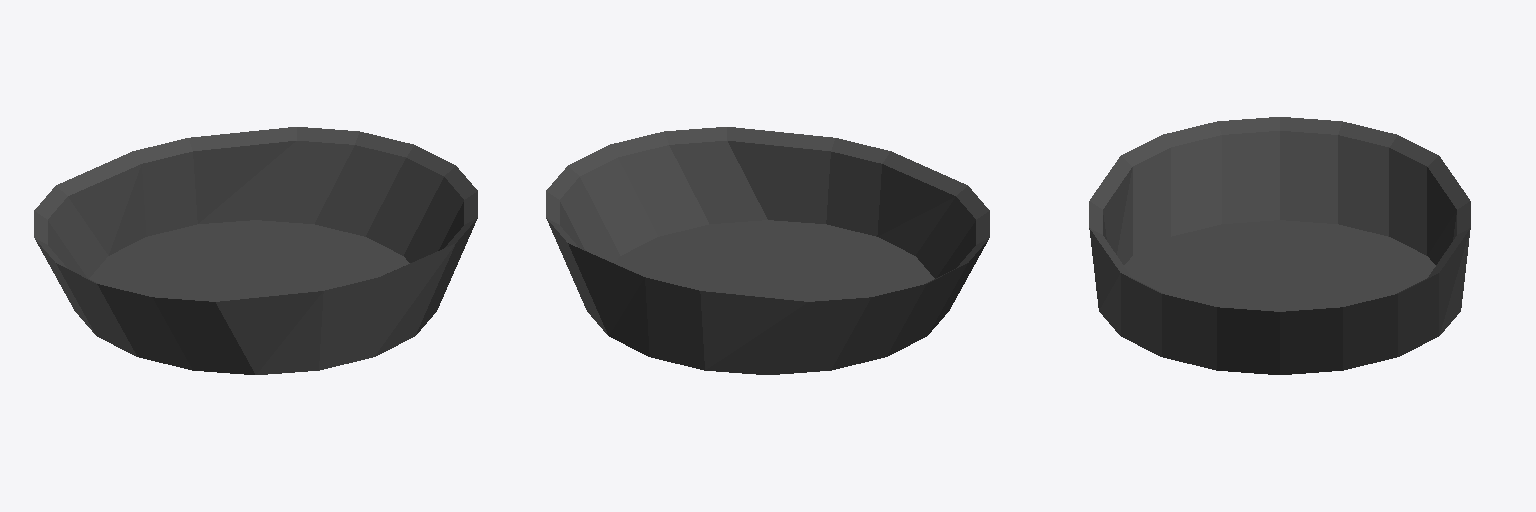
File: basket.obj
The picture shows the model from 3 angles: view 1: azimuth 30°, elevation 25°; view 2: azimuth 150°, elevation 25°; view 3: azimuth 270°, elevation 25°; orthographic projection.
Parts seen in each view (by area): view 1: Cylinder001; view 2: Cylinder001; view 3: Cylinder001.
Part boxes in pixels (left/top/right/bottom): Cylinder001: left=34, top=127, right=477, bottom=374; Cylinder001: left=546, top=127, right=989, bottom=374; Cylinder001: left=1089, top=117, right=1470, bottom=374.
Bounding box in the file's own units: 25.12 × 5 × 20.74.